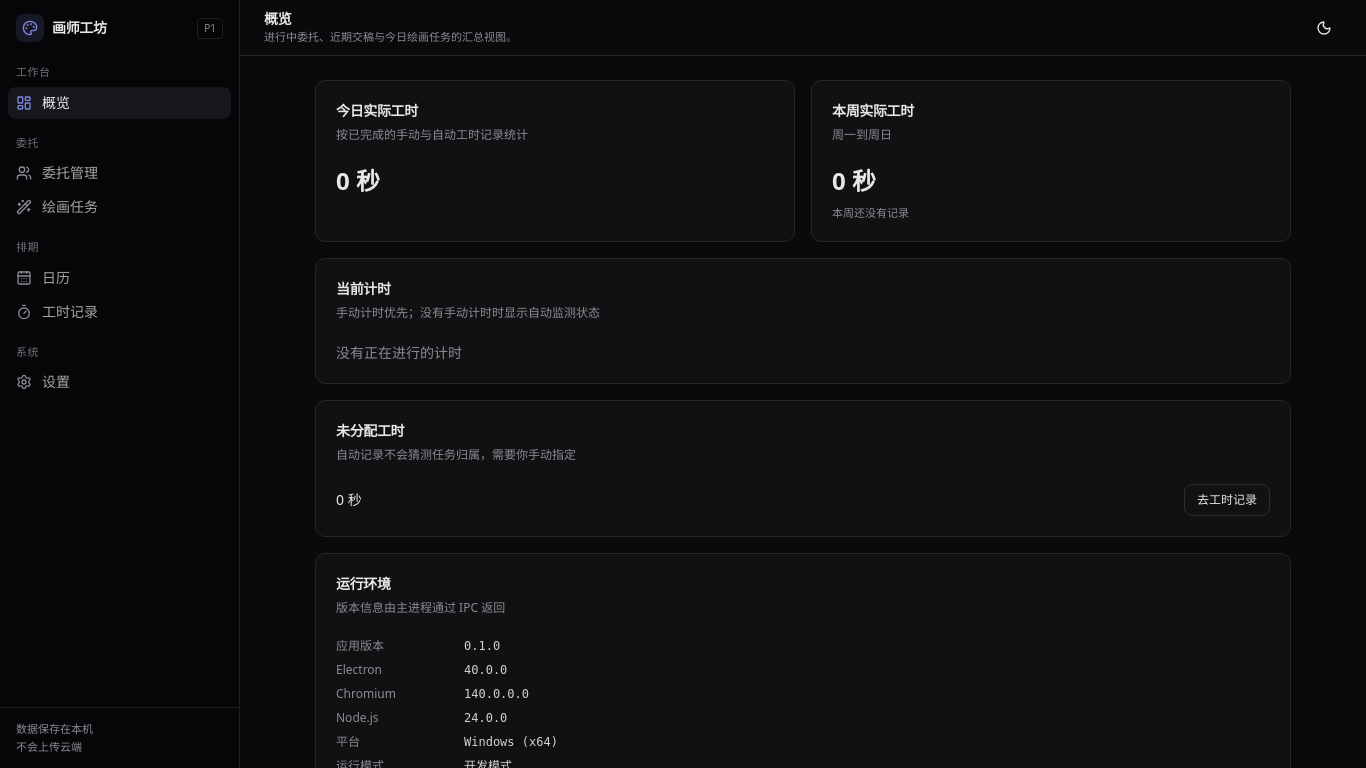
Scenario: 应用外壳 › 主题切换会更新根元素与按钮文案
Expected: the element with test id "app-info" is shown, [336,638,1270,767]
Click the button named "切换到浅色主题" at {"x": 1324, "y": 28}, box [1306,10,1342,46]
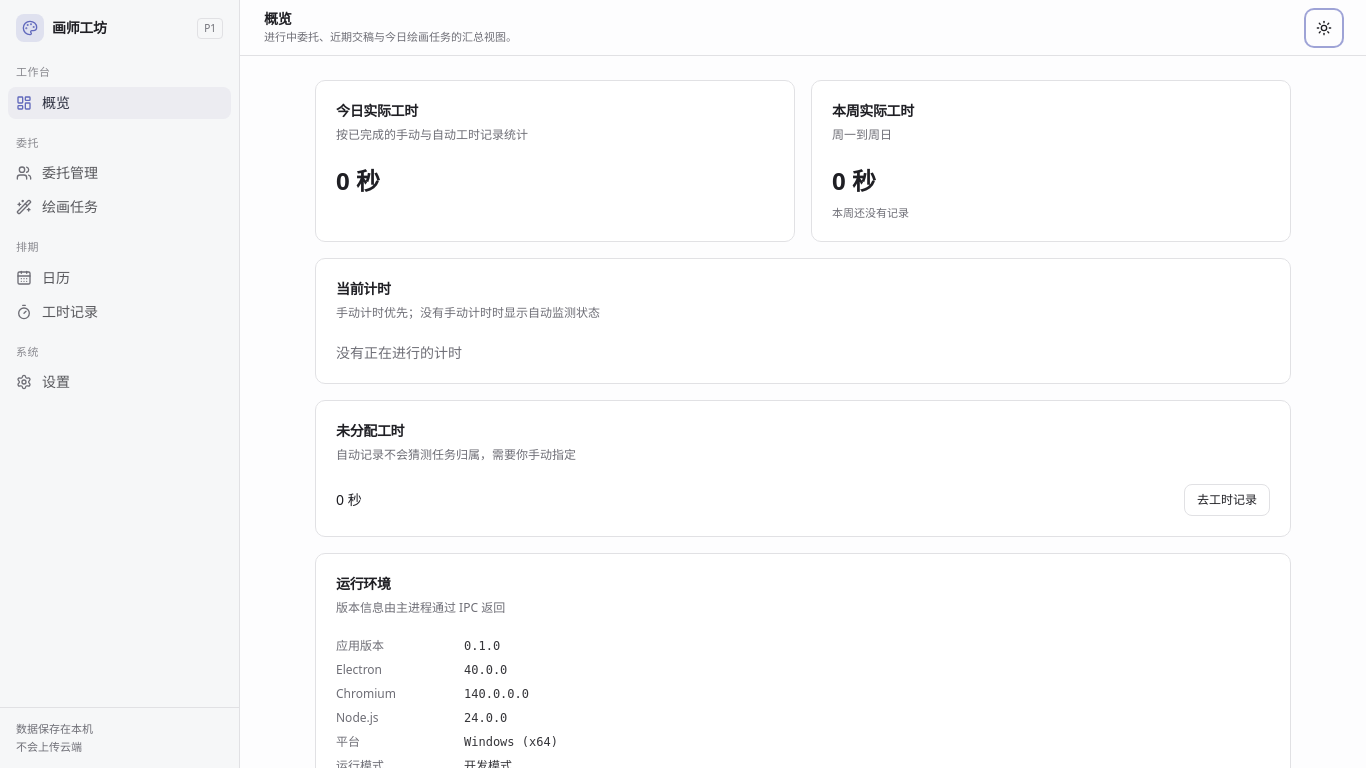
Now the button named "切换到深色主题" is shown, box [1306,10,1342,46]
